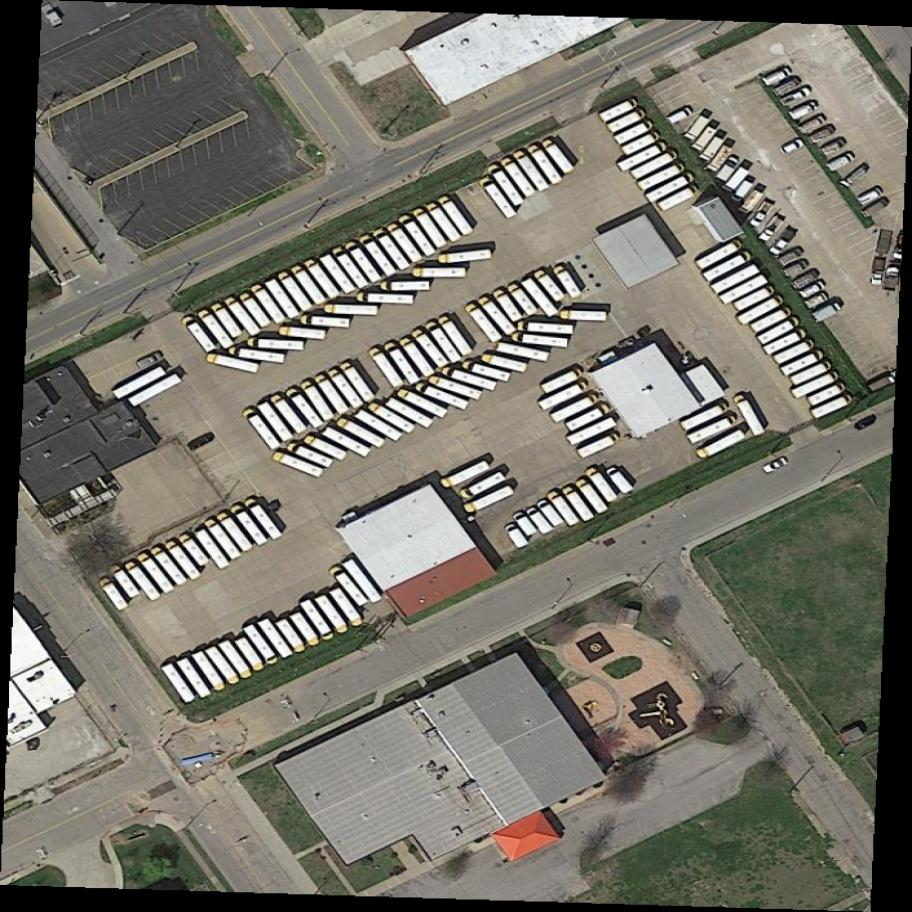large-vehicle: (111, 365, 167, 402), (645, 169, 696, 208), (617, 138, 668, 177), (344, 239, 385, 287), (288, 262, 329, 310), (332, 244, 372, 293), (129, 373, 183, 409), (243, 407, 284, 454), (229, 502, 270, 549), (344, 558, 384, 606), (149, 543, 190, 589), (399, 212, 438, 260), (244, 496, 284, 542), (164, 537, 204, 583), (124, 559, 164, 605), (372, 228, 412, 274), (359, 234, 399, 280), (304, 256, 344, 302), (486, 162, 526, 208), (214, 509, 254, 555), (136, 550, 176, 596), (718, 271, 769, 307), (567, 415, 619, 450), (695, 237, 744, 274), (269, 392, 309, 437), (479, 175, 518, 221), (465, 300, 504, 346), (425, 320, 464, 366), (701, 250, 752, 285), (736, 292, 785, 328), (285, 387, 326, 430), (477, 295, 518, 338), (222, 295, 262, 339), (196, 308, 236, 352), (411, 327, 451, 371), (320, 253, 359, 298), (367, 400, 417, 435), (537, 380, 590, 413), (205, 517, 243, 563), (368, 346, 406, 392), (710, 263, 761, 297), (550, 391, 601, 425), (440, 458, 491, 492), (630, 147, 678, 183), (385, 223, 425, 266), (337, 360, 376, 404), (464, 484, 516, 517), (436, 194, 475, 238), (425, 202, 464, 246), (257, 400, 295, 445), (276, 270, 314, 315), (512, 149, 550, 194), (384, 341, 421, 387), (321, 427, 372, 460), (682, 399, 730, 434), (399, 336, 437, 380), (412, 207, 450, 251), (527, 143, 565, 187), (355, 410, 404, 444), (396, 389, 451, 419), (336, 417, 386, 450), (522, 276, 560, 319), (251, 284, 289, 327), (638, 160, 686, 194), (699, 428, 747, 462), (265, 278, 302, 322), (300, 599, 337, 643), (500, 155, 537, 199), (195, 527, 231, 572), (177, 657, 213, 701), (218, 638, 254, 682), (205, 644, 242, 686), (258, 618, 295, 660), (243, 622, 279, 665), (438, 314, 473, 358), (792, 370, 840, 402), (565, 401, 611, 434), (416, 384, 470, 412), (315, 375, 351, 417), (314, 594, 350, 636), (192, 650, 227, 693), (301, 380, 336, 423), (161, 663, 196, 706), (689, 414, 736, 446), (386, 398, 434, 429), (332, 566, 368, 607), (574, 476, 610, 517), (734, 394, 767, 438), (238, 292, 274, 332), (584, 465, 620, 505), (329, 588, 364, 629), (273, 450, 324, 478), (462, 471, 508, 502), (779, 348, 825, 379), (757, 315, 800, 348), (765, 326, 809, 358), (182, 316, 218, 355), (540, 365, 585, 396), (106, 562, 141, 601), (540, 137, 575, 176), (428, 376, 483, 400), (442, 367, 497, 391), (601, 95, 642, 127), (210, 303, 244, 341), (178, 531, 212, 569), (563, 485, 596, 524), (275, 617, 307, 657), (658, 183, 699, 214), (288, 442, 335, 469), (302, 434, 347, 462), (791, 359, 833, 389), (506, 282, 540, 319), (576, 432, 620, 460), (774, 336, 815, 366), (607, 108, 648, 138), (548, 490, 580, 528), (492, 287, 524, 325), (813, 392, 854, 421), (208, 353, 262, 375), (534, 267, 567, 303), (98, 576, 130, 613), (235, 636, 266, 674), (291, 611, 322, 649), (623, 129, 662, 159), (616, 117, 655, 147), (807, 381, 847, 410), (752, 306, 791, 335), (735, 285, 775, 313), (553, 265, 583, 301), (496, 343, 551, 362), (464, 362, 512, 383), (481, 353, 528, 373), (512, 332, 570, 348), (231, 347, 284, 364), (525, 506, 554, 537), (536, 498, 565, 529), (606, 464, 634, 496), (440, 248, 492, 265), (512, 509, 540, 540), (504, 521, 530, 552), (521, 321, 574, 335), (276, 326, 327, 340), (415, 267, 468, 280), (302, 315, 351, 329), (360, 293, 415, 305), (249, 339, 304, 351), (382, 282, 430, 292), (561, 311, 607, 321), (327, 306, 378, 315)
small-vehicle: (767, 221, 802, 260), (696, 131, 730, 167), (720, 161, 754, 197), (757, 210, 791, 246), (806, 297, 845, 328), (774, 83, 814, 112), (757, 63, 796, 92), (707, 141, 738, 176), (690, 121, 721, 155), (838, 161, 872, 192), (789, 265, 825, 294), (785, 97, 822, 125), (682, 111, 713, 144), (748, 197, 778, 230), (714, 154, 743, 187), (769, 74, 803, 102), (796, 277, 828, 304), (824, 149, 856, 176), (796, 112, 829, 138), (854, 184, 886, 210), (738, 188, 766, 217), (806, 122, 837, 148), (663, 104, 695, 129), (778, 134, 809, 159), (779, 256, 811, 280), (860, 196, 890, 220), (819, 137, 849, 161), (801, 290, 829, 314), (778, 245, 807, 268), (868, 254, 888, 287), (136, 349, 165, 371), (186, 433, 216, 453), (762, 455, 789, 477), (853, 412, 880, 434), (731, 179, 754, 204)
